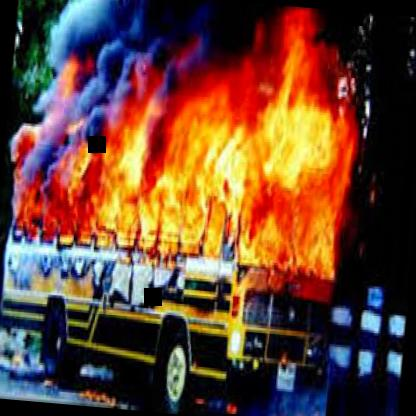fire: (12, 0, 341, 360)
